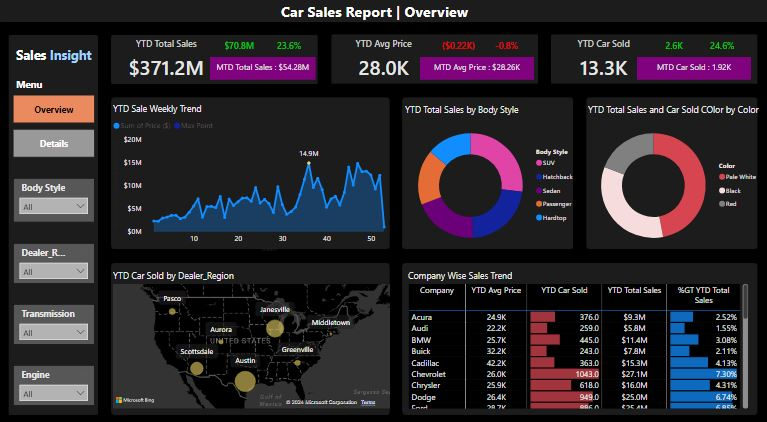

Layout of this report page (visuals, bound fields, positions):
{"tool":"powerbi","page":{"name":"Overview","canvas":[1280,720],"ordinal":0},"visuals":[{"type":"card","title":"YTD Total Sales","fields":{"Values":["Measure.Total YTD Sales"]},"box":[189.9,65.2,177.2,82.2],"z":0},{"type":"card","fields":{"Values":["Measure.Sales Difference"]},"box":[367.1,65.2,66.6,32.6],"z":1000},{"type":"card","fields":{"Values":["Measure.YOY Sales Growth"]},"box":[450.7,65.2,66.6,32.6],"z":2000},{"type":"card","title":"YTD Avg Price","fields":{"Values":["Measure.YTD Avg Price"]},"box":[557,65.2,168.7,82.2],"z":3000},{"type":"card","fields":{"Values":["Measure.MTD KPI"]},"box":[351,97.8,175.7,38.3],"z":4000},{"type":"card","fields":{"Values":["Measure.Avg Price Difference"]},"box":[701.6,65.2,127.6,32.6],"z":5000},{"type":"card","fields":{"Values":["Measure.YOY Avg Price Growth"]},"box":[782.4,65.2,127.6,32.6],"z":6000},{"type":"card","fields":{"Values":["Measure.MTD Avg Price KPI"]},"box":[701.6,97.8,189.9,38.3],"z":7000},{"type":"card","title":"YTD Car Sold","fields":{"Values":["Measure.YTD Car Sold"]},"box":[922.7,65.2,168.7,82.2],"z":8000},{"type":"card","fields":{"Values":["Measure.Car Sold Difference"]},"box":[1091.3,65.2,66.6,32.6],"z":9000},{"type":"card","fields":{"Values":["Measure.YOY Car Sold Growth"]},"box":[1140.9,65.2,127.6,32.6],"z":10000},{"type":"card","fields":{"Values":["Measure.MTD Car Sold KPI"]},"box":[1063,97.8,189.9,38.3],"z":11000},{"type":"areaChart","title":"YTD Sale Weekly Trend ","fields":{"Category":["Calender Table.Week"],"Y":["Sum(car_data.Price ($))","car_data.Max Point"]},"box":[185,173,472,255.1],"z":12000},{"type":"donutChart","fields":{"Category":["car_data.Body Style"],"Y":["Measure.YTD Total Sales"]},"box":[672,174.3,299.1,255.1],"z":13000},{"type":"donutChart","fields":{"Y":["Measure.YTD Total Sales"],"Category":["car_data.Color"]},"box":[976,174.3,299.1,255.1],"z":14000},{"type":"map","fields":{"Category":["car_data.Dealer_Region"],"Size":["Measure.YTD Car Sold"]},"box":[185,452.1,472,238.1],"z":15000},{"type":"tableEx","title":"Company Wise Sales Trend","fields":{"Values":["car_data.Company","Measure.YTD Avg Price","Measure.YTD Car Sold","Measure.YTD Total Sales1","Measure.YTD Total Sales"]},"box":[676.1,452.1,576.9,238.1],"z":16000},{"type":"textbox","box":[465.7,0,348.7,66.6],"z":17000},{"type":"slicer","fields":{"Values":["car_data.Body Style"]},"box":[24,300.5,136,73.7],"z":18000},{"type":"slicer","fields":{"Values":["car_data.Dealer_Region"]},"box":[24.1,407.7,136.1,68],"z":19000},{"type":"slicer","fields":{"Values":["car_data.Transmission"]},"box":[24.1,509.3,136.1,68],"z":20000},{"type":"slicer","fields":{"Values":["car_data.Engine"]},"box":[24.1,610.9,136.1,68],"z":21000},{"type":"textbox","box":[24,75.1,150.2,45.4],"z":22000},{"type":"pageNavigator","box":[24.1,161.6,136.1,104.9],"z":23000},{"type":"textbox","box":[24,128,73.7,35.4],"z":24000}]}

Visuals, with their boxes in screenshot pixels (x1, y1, x2, y2), scaled from the page's 1280x720 canvas onto the 767x422 screenshot:
"YTD Total Sales" card: locate(114, 38, 220, 86)
card - Measure.Sales Difference: locate(220, 38, 260, 57)
card - Measure.YOY Sales Growth: locate(270, 38, 310, 57)
"YTD Avg Price" card: locate(334, 38, 435, 86)
card - Measure.MTD KPI: locate(210, 57, 316, 80)
card - Measure.Avg Price Difference: locate(420, 38, 497, 57)
card - Measure.YOY Avg Price Growth: locate(469, 38, 545, 57)
card - Measure.MTD Avg Price KPI: locate(420, 57, 534, 80)
"YTD Car Sold" card: locate(553, 38, 654, 86)
card - Measure.Car Sold Difference: locate(654, 38, 694, 57)
card - Measure.YOY Car Sold Growth: locate(684, 38, 760, 57)
card - Measure.MTD Car Sold KPI: locate(637, 57, 751, 80)
"YTD Sale Weekly Trend " areaChart: locate(111, 101, 394, 251)
donutChart - car_data.Body Style x Measure.YTD Total Sales: locate(403, 102, 582, 252)
donutChart - Measure.YTD Total Sales x car_data.Color: locate(585, 102, 764, 252)
map - car_data.Dealer_Region x Measure.YTD Car Sold: locate(111, 265, 394, 405)
"Company Wise Sales Trend" tableEx: locate(405, 265, 751, 405)
textbox: locate(279, 0, 488, 39)
slicer - car_data.Body Style: locate(14, 176, 96, 219)
slicer - car_data.Dealer_Region: locate(14, 239, 96, 279)
slicer - car_data.Transmission: locate(14, 299, 96, 338)
slicer - car_data.Engine: locate(14, 358, 96, 398)
textbox: locate(14, 44, 104, 71)
pageNavigator: locate(14, 95, 96, 156)
textbox: locate(14, 75, 59, 96)
